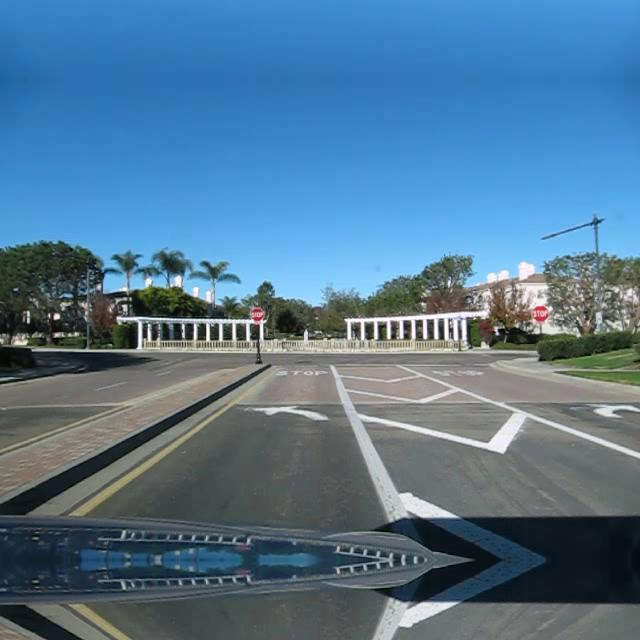stop: (530, 304, 548, 322), (248, 306, 264, 322)
